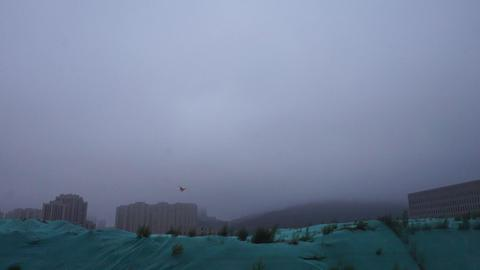UAV: (178, 187, 187, 192)
